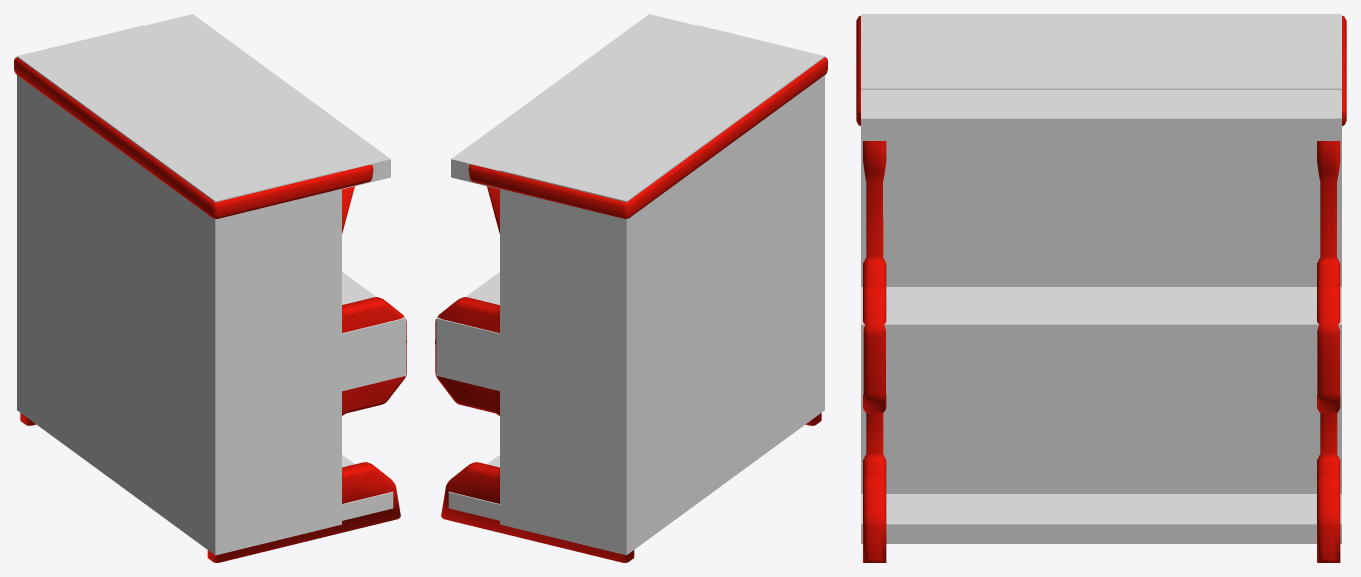
The model's file is Piano.fbx.
3 renders of one model, left to right at view 1: azimuth 30°, elevation 25°; view 2: azimuth 150°, elevation 25°; view 3: azimuth 270°, elevation 25°, orthographic. The views are drawn at different scales.
Parts seen in each view (by area): view 1: Pcoll 1, Piano, Pcoll 3, Pcoll 2, Pcoll 4; view 2: Pcoll 1, Piano, Pcoll 3, Pcoll 2, Pcoll 4; view 3: Pcoll 1, Pcoll 2, Pcoll 3, Pcoll 4, Piano.
Part boxes in pixels (x1=…): Pcoll 1: x1=17, y1=25, x2=341, y2=555; Piano: x1=14, y1=57, x2=406, y2=562; Pcoll 3: x1=144, y1=14, x2=390, y2=196; Pcoll 2: x1=312, y1=272, x2=405, y2=398; Pcoll 4: x1=299, y1=455, x2=393, y2=530; Pcoll 1: x1=500, y1=25, x2=824, y2=555; Piano: x1=435, y1=57, x2=827, y2=562; Pcoll 3: x1=451, y1=14, x2=697, y2=195; Pcoll 2: x1=436, y1=272, x2=529, y2=395; Pcoll 4: x1=448, y1=455, x2=541, y2=520; Pcoll 1: x1=861, y1=14, x2=1341, y2=493; Pcoll 2: x1=861, y1=287, x2=1341, y2=394; Pcoll 3: x1=861, y1=89, x2=1341, y2=140; Pcoll 4: x1=861, y1=494, x2=1341, y2=543; Piano: x1=856, y1=16, x2=1346, y2=562.
Size of the model in its own units: 177 by 312 by 315.
